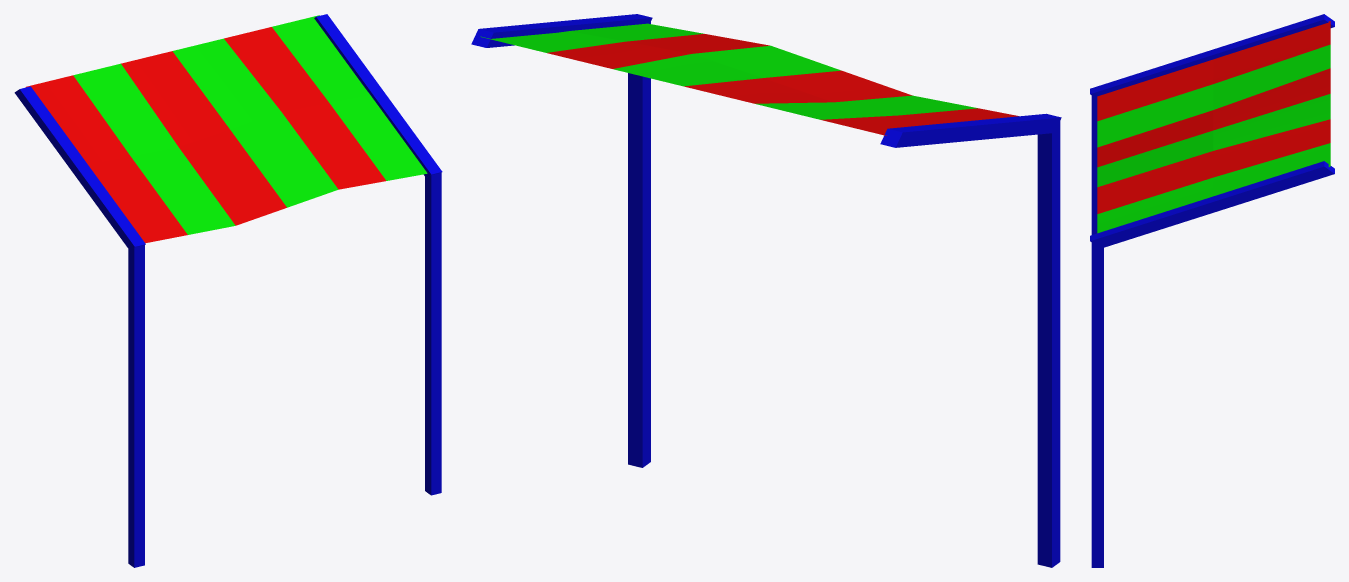
Rendered from Mini_ShopDrap.fbx.
3 views of the same model, side by side, from view 1: azimuth 30°, elevation 25°; view 2: azimuth 150°, elevation 25°; view 3: azimuth 270°, elevation 25° (orthographic). The views are drawn at different scales.
Parts seen in each view (by area): view 1: polySurface159; view 2: polySurface159; view 3: polySurface159.
Boxes of the visible parts, box(x1,y1,x2,y2) form: polySurface159: box(14, 14, 442, 567); polySurface159: box(471, 14, 1061, 567); polySurface159: box(1090, 14, 1334, 567).
Bounding box in the file's own units: 7.78 × 9.55 × 5.28.
